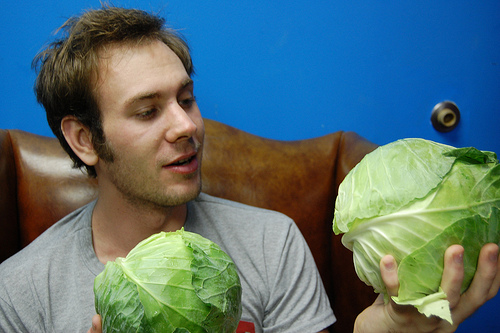cabbage: (331, 134, 499, 327), (91, 225, 244, 332)
